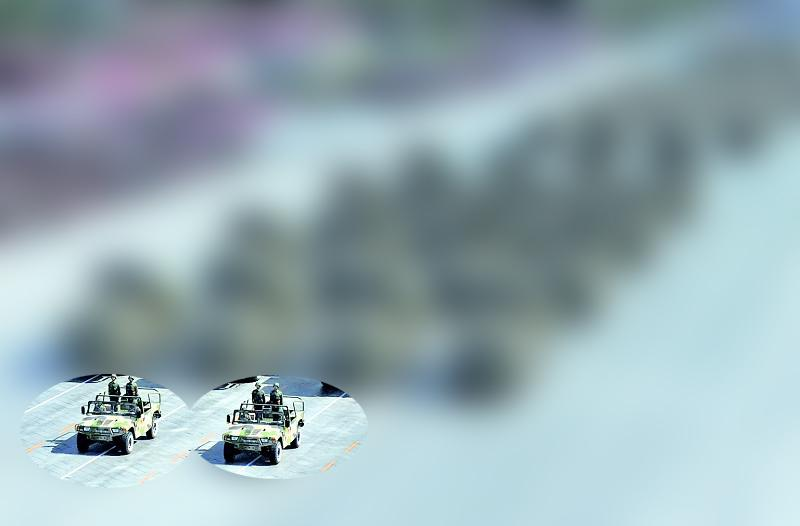armored_car: (75, 375, 162, 455), (222, 387, 306, 465)
